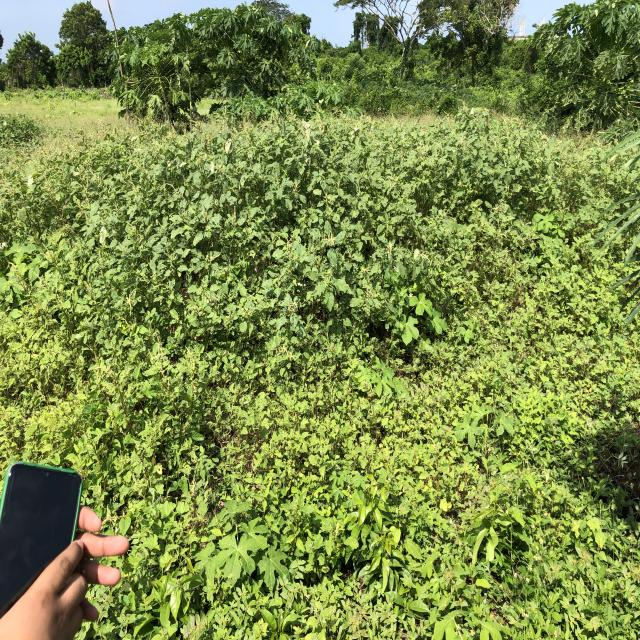Maleza: (12, 216, 583, 454), (271, 432, 605, 617), (532, 78, 640, 582), (113, 376, 316, 634), (200, 126, 399, 235), (440, 127, 576, 264), (4, 96, 128, 244), (90, 147, 254, 239), (330, 76, 470, 182)
